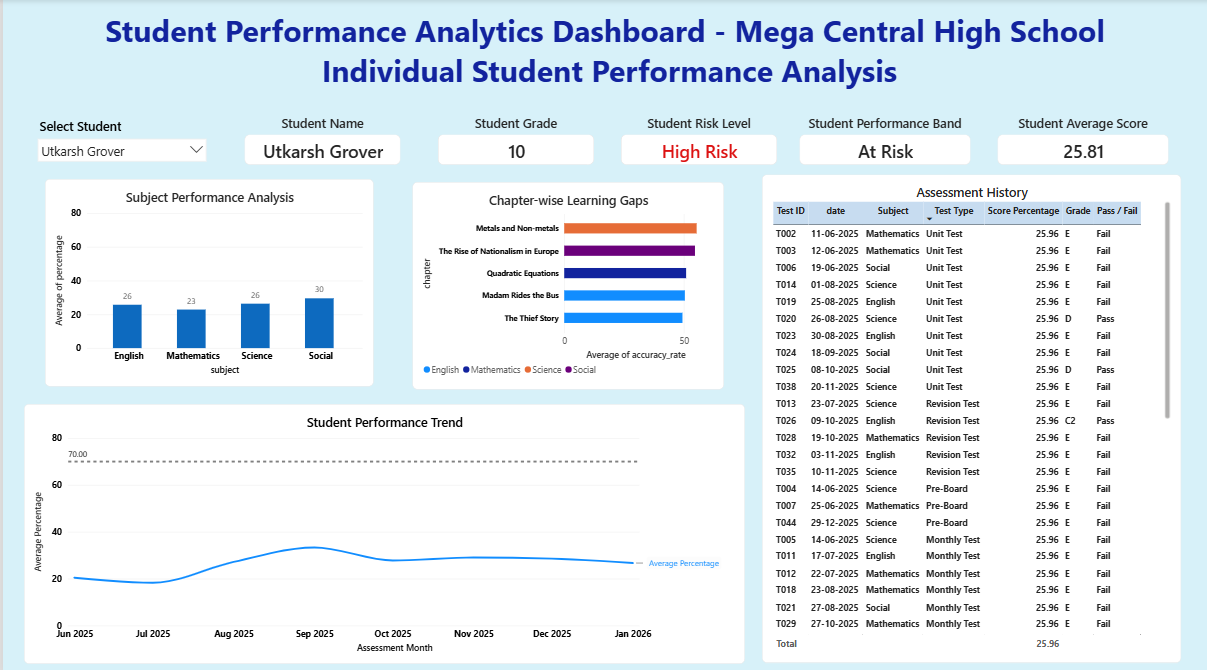

This screenshot's page, from the dashboard's own definition file:
{"tool":"powerbi","page":{"name":"Individual Student Performance Analysis","canvas":[1920,1080],"ordinal":2},"visuals":[{"type":"textbox","box":[10,0,280,280],"z":0},{"type":"textbox","box":[10,17.5,1910,147.5],"z":1000},{"type":"slicer","fields":{"Values":["students.name"]},"box":[50,188,278,76],"z":2000},{"type":"cardVisual","title":"Student Name","fields":{"Data":["Min(students.name)"]},"box":[384,184,248,80],"z":3000},{"type":"cardVisual","title":"Student Grade","fields":{"Data":["Sum(students.grade)"]},"box":[692,184,248,80],"z":4000},{"type":"cardVisual","title":"Student Risk Level","fields":{"Data":["Min(student_risk_report.risk_level)"]},"box":[982,184,248,80],"z":5000},{"type":"cardVisual","title":"Student Performance Band","fields":{"Data":["Min(student_progress.performance_band)"]},"box":[1266,184,272,80],"z":6000},{"type":"cardVisual","title":"Student Average Score","fields":{"Data":["scores.Student Average Score"]},"box":[1582,184,272,80],"z":7000},{"type":"clusteredColumnChart","title":"Subject Performance Analysis","fields":{"Category":["scores.subject"],"Y":["Avg(scores.percentage)"]},"box":[67.5,287.5,522.5,330],"z":8000},{"type":"lineChart","title":"Student Performance Trend","fields":{"Category":["DateTable.Date.Variation.Date Hierarchy.Year","DateTable.Date.Variation.Date Hierarchy.Quarter","DateTable.Date.Variation.Date Hierarchy.Month"],"Y":["scores.Average Percentage"]},"box":[33.3,643.3,1146.7,413.3],"z":9000},{"type":"tableEx","title":"Assessment History","fields":{"Values":["tests.test_id","tests.date","tests.subject","tests.test_type","Avg(student_risk_report.avg_percentage)","scores.grade","scores.pass_fail"]},"box":[1206.7,280,666.7,776.7],"z":10000},{"type":"barChart","title":"Chapter-wise Learning Gaps","fields":{"Category":["chapter_analytics.chapter"],"Series":["chapter_analytics.subject"],"Y":["Avg(chapter_analytics.accuracy_rate)"]},"box":[652.5,290,495,330],"z":11000}]}

Visuals, with their boxes in screenshot pixels (x1, y1, x2, y2), scaled from the page's 1920x1080 canvas onto the 1207x670 screenshot:
textbox: 6:0:182:174
textbox: 6:11:1206:102
slicer - students.name: 31:117:206:164
"Student Name" cardVisual: 241:114:397:164
"Student Grade" cardVisual: 435:114:591:164
"Student Risk Level" cardVisual: 617:114:773:164
"Student Performance Band" cardVisual: 796:114:967:164
"Student Average Score" cardVisual: 995:114:1166:164
"Subject Performance Analysis" clusteredColumnChart: 42:178:371:383
"Student Performance Trend" lineChart: 21:399:742:655
"Assessment History" tableEx: 759:174:1178:656
"Chapter-wise Learning Gaps" barChart: 410:180:721:385
